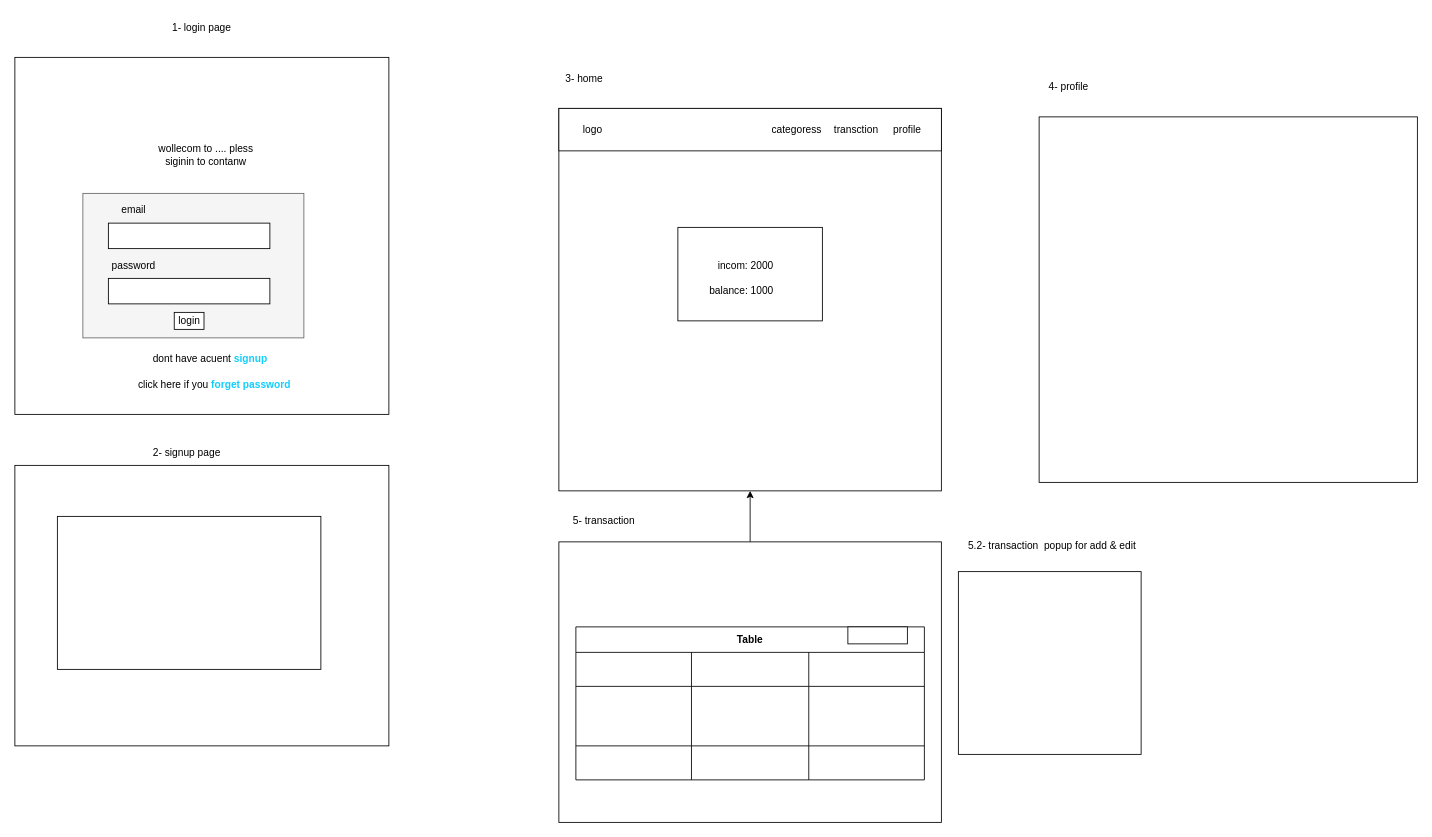
This 1432x837 diagram has some shape labels left out. Here are the shapes that lost their labels. From the top down, the box of each, then its label:
(677, 227, 822, 321): expenses: 1000
(847, 626, 907, 644): add
